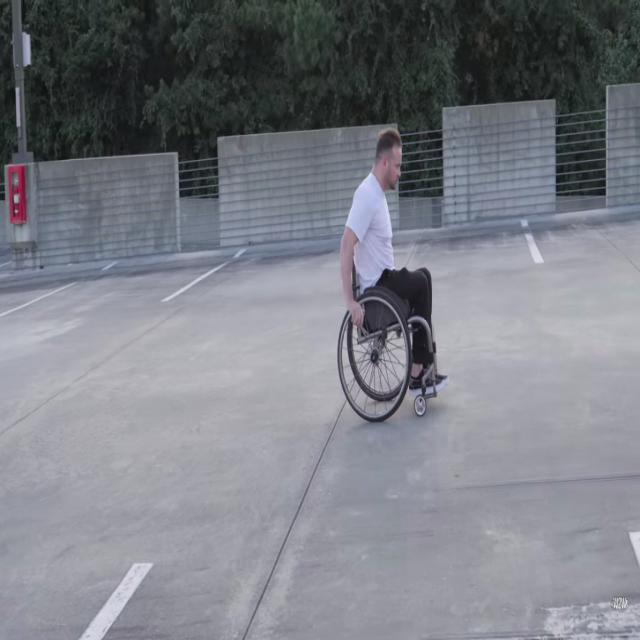wheelchairs: (332, 293, 439, 422)
